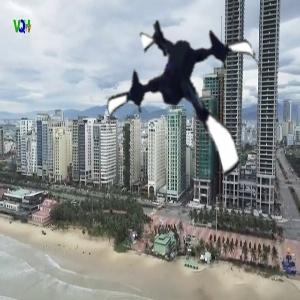drone: (100, 12, 276, 188)
